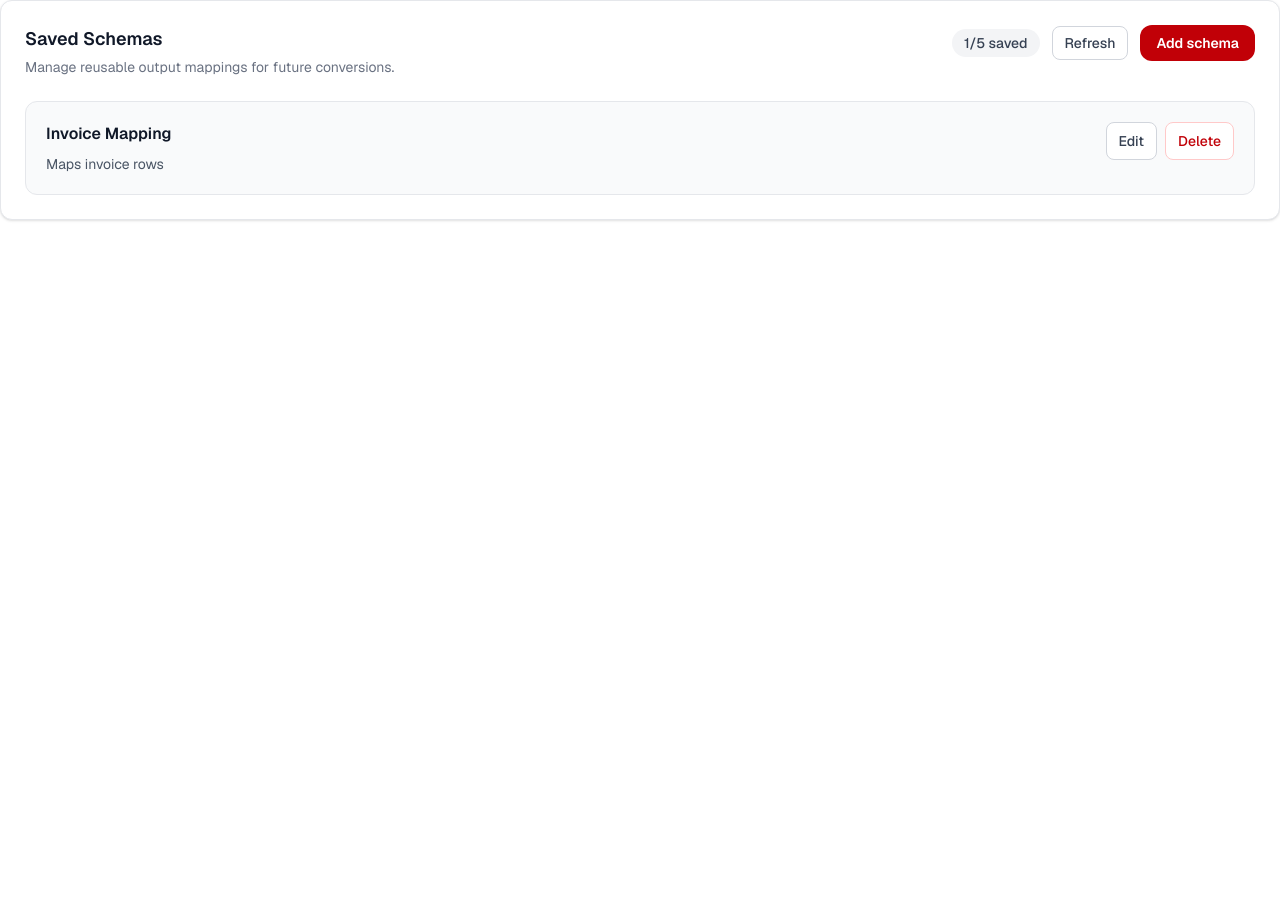
Test: CustomSchemaManager › opens the modal in edit mode and updates an existing schema
Expected: the heading "Invoice Mapping" is shown, [46,122,172,146]
Click the button "Edit".
click(1131, 141)  # box [1106,122,1157,160]
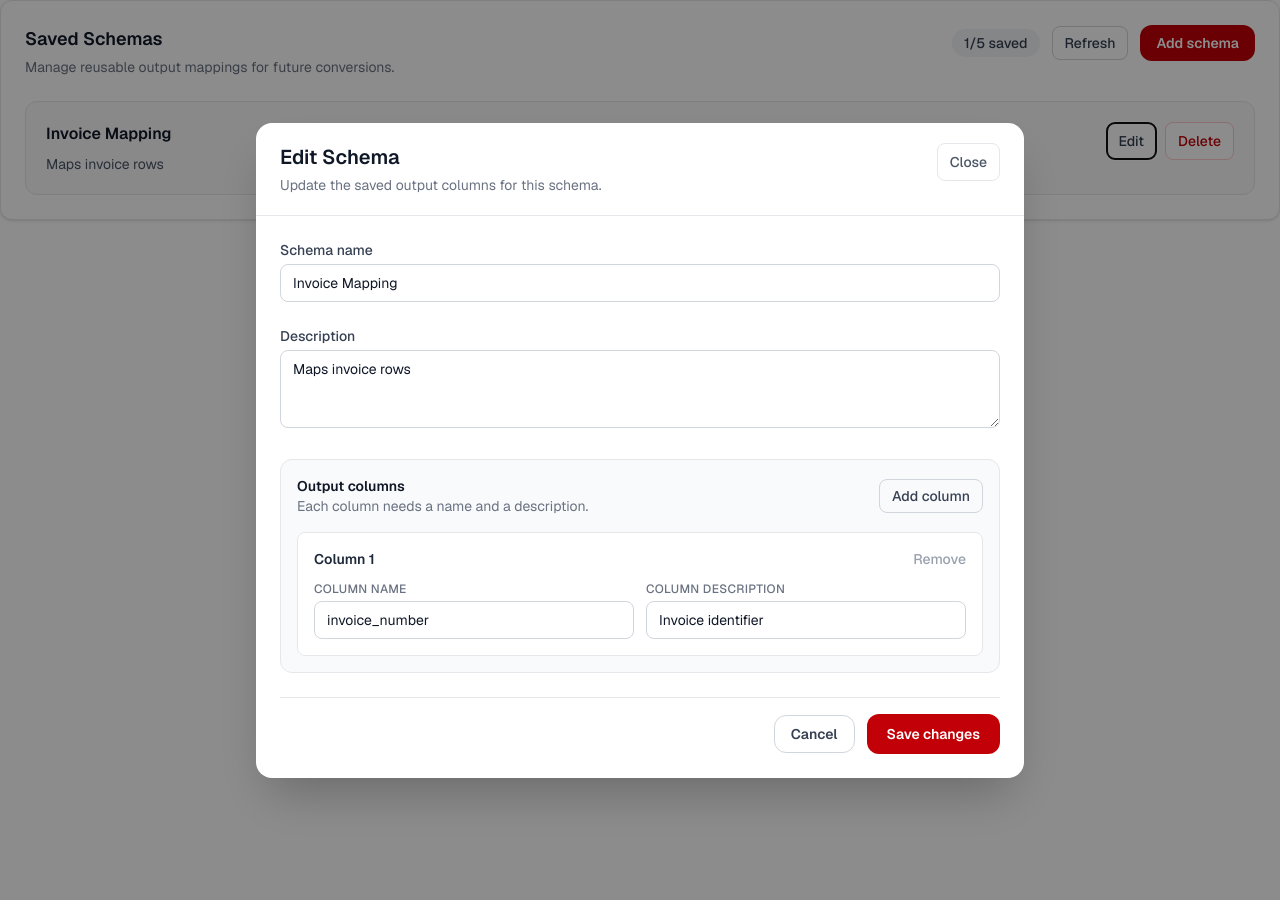
Expected: the field labelled "Schema name" holds "Invoice Mapping"
Expected: the text box labelled "Description" holds "Maps invoice rows", [280,350,1000,428]
Expected: the field labelled "Column name" holds "invoice_number", [314,600,634,638]
Replace the text in the field labelled "Schema name" with "Updated Invoice Mapping" at (640, 282), box [280,264,1000,302]
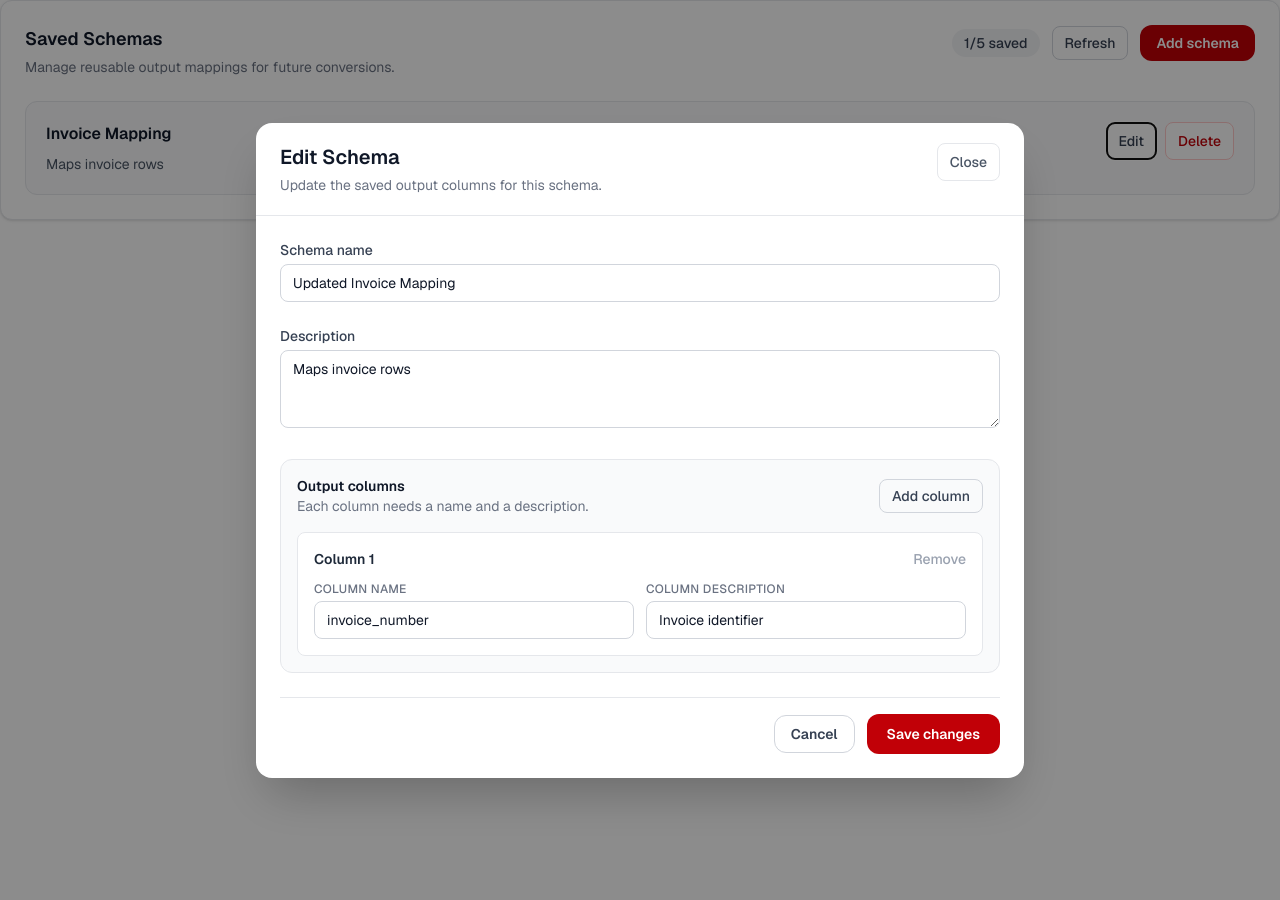
Replace the text in the text box labelled "Description" with "Updated schema description" at (640, 388), box [280,350,1000,428]
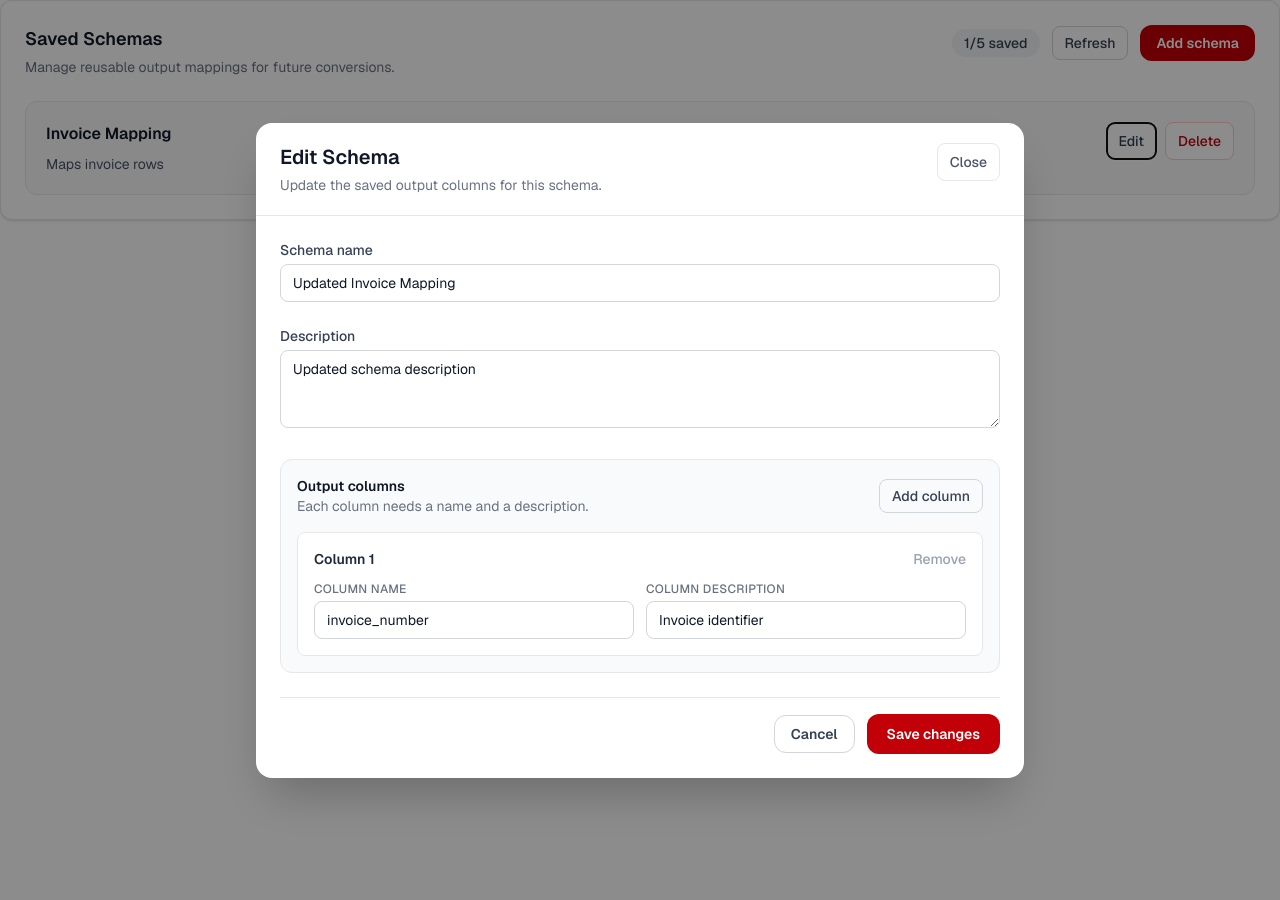
Replace the text in the field labelled "Column name" with "invoice_code" at (474, 620), box [314,600,634,638]
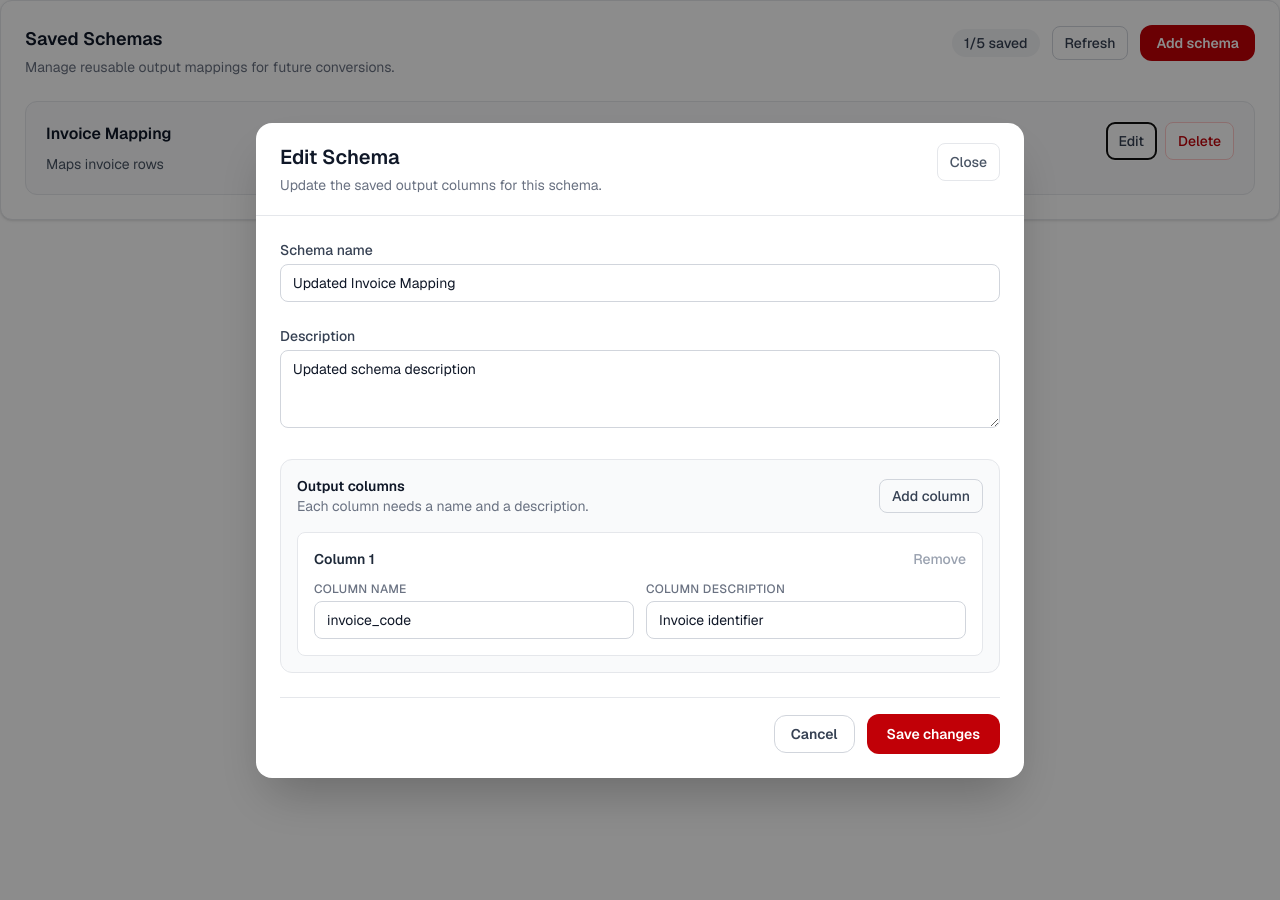
Replace the text in the field labelled "Column description" with "Updated invoice identifier" at (806, 620), box [646,600,966,638]
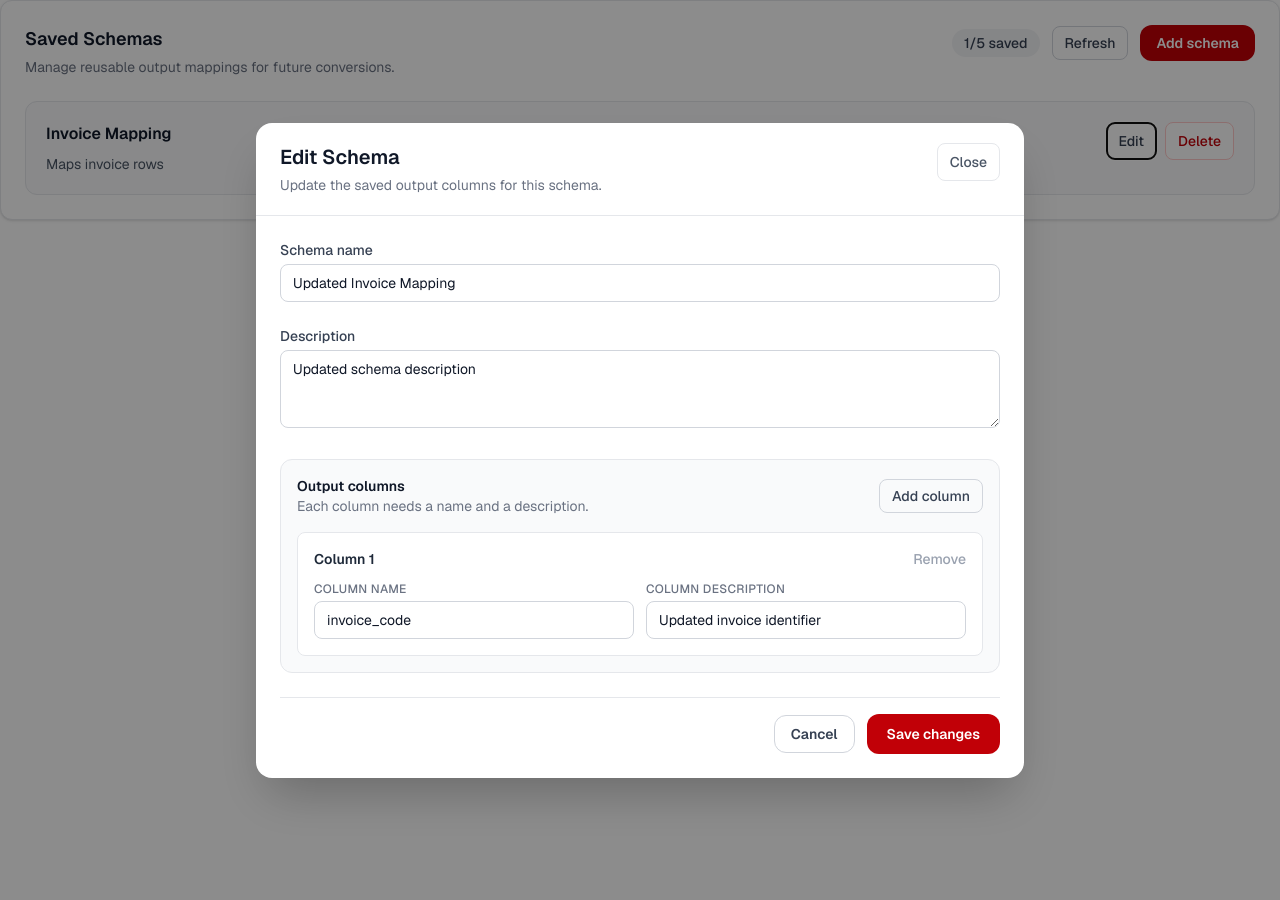
Click the button with test id "schema-save-btn".
click(933, 734)  # box [866,714,1000,754]
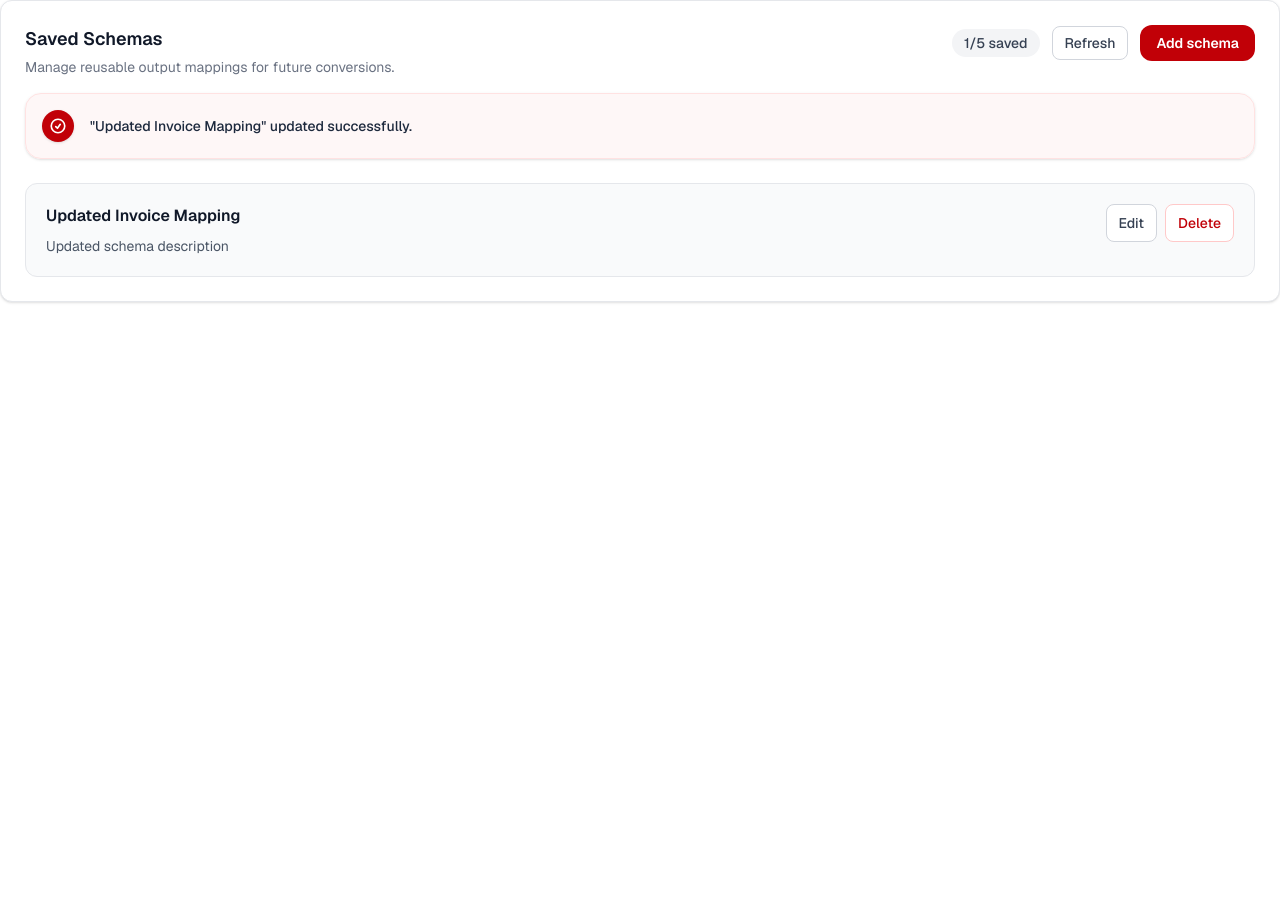
Expected: the heading "Edit Schema" is gone
Expected: the heading "Updated Invoice Mapping" is shown, [46,204,240,228]
Expected: the text "\"Updated Invoice Mapping\" updated successfully." is shown, [90,115,412,137]
